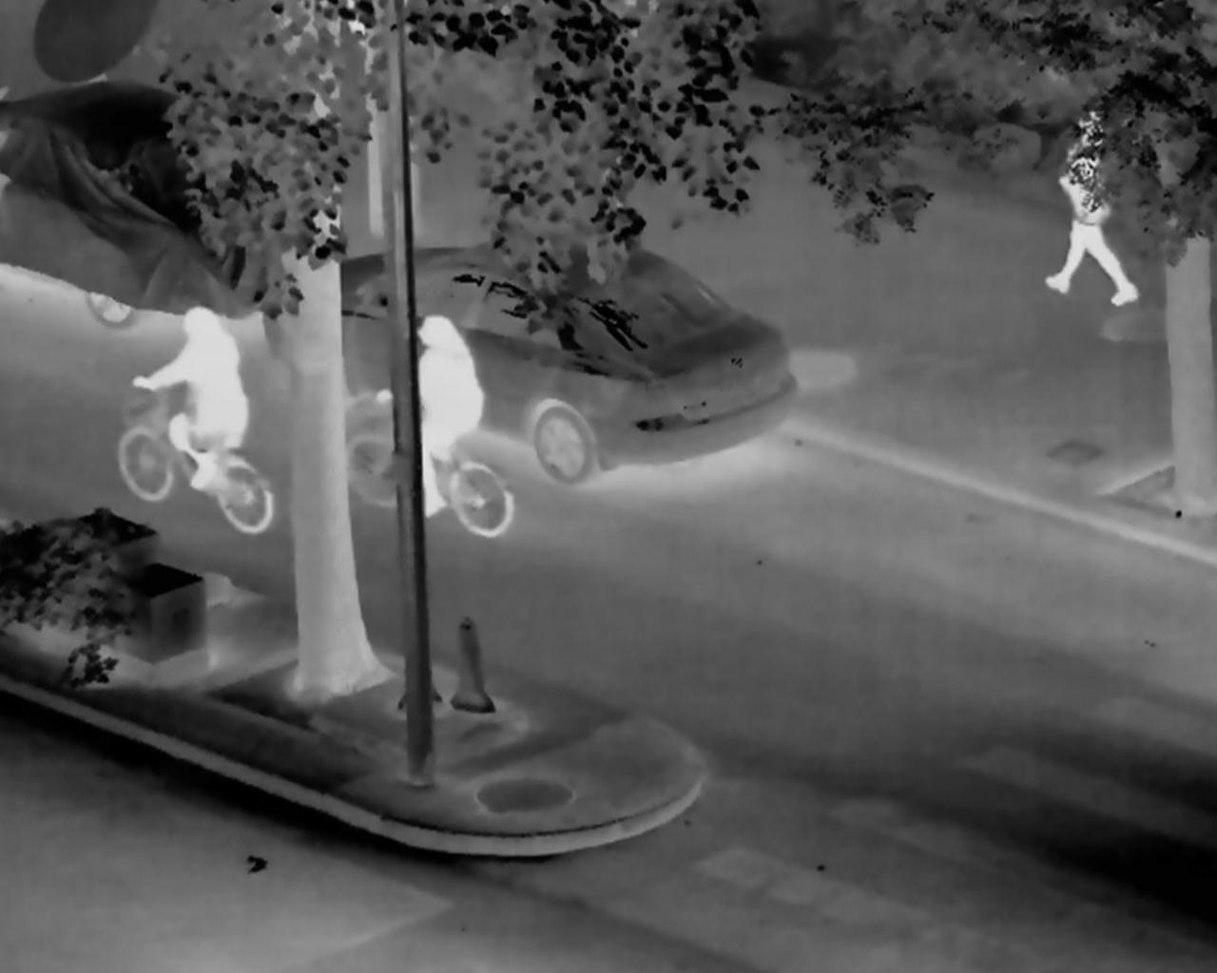person: (131, 306, 249, 492), (379, 316, 481, 517), (1043, 111, 1140, 309)
